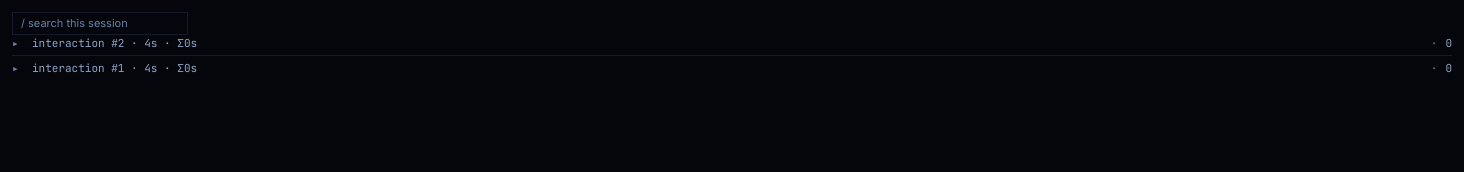
the trace declares what it hid › hides whole interactions, counts them, and keeps the ordinals stable
Expected: the number of list items with test id "trace-interaction" is 2, [12,34,1452,51]; [12,55,1452,76]
Expected: the list item with test id "trace-interaction" shows "interaction #2", [12,34,1452,51]
Type "GrepTheThing" into the search field with test id "session-search-test" at (100, 23), box [12,12,188,34]
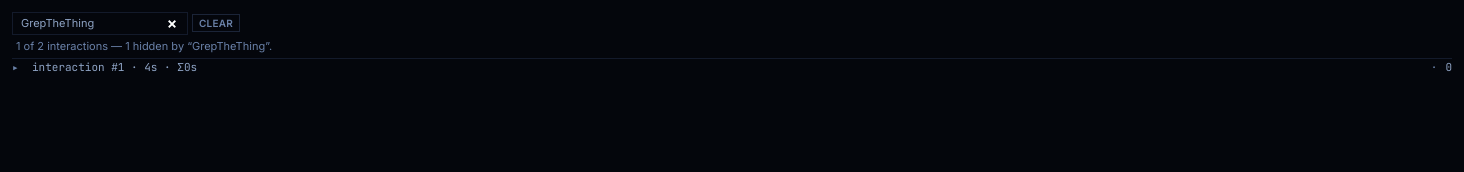
Now the number of list items with test id "trace-interaction" is 1, box [12,59,1452,75]
Now the message with test id "session-search-hidden-trace" shows "1 of 2 interactions", box [16,38,272,52]
Now the message with test id "session-search-hidden-trace" shows "1 hidden by “GrepTheThing”", box [16,38,272,52]
